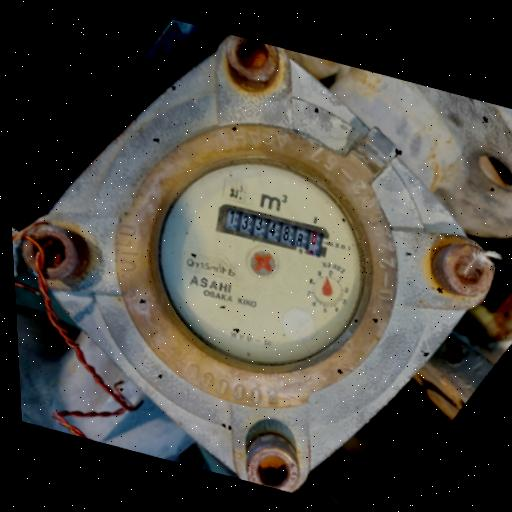1: (223, 208, 241, 230)
3: (239, 211, 254, 234), (253, 215, 267, 238)
4: (266, 218, 281, 240)
8: (306, 229, 321, 256), (280, 221, 295, 244), (294, 225, 309, 248)
border_water_meter_number: (213, 200, 333, 261)
